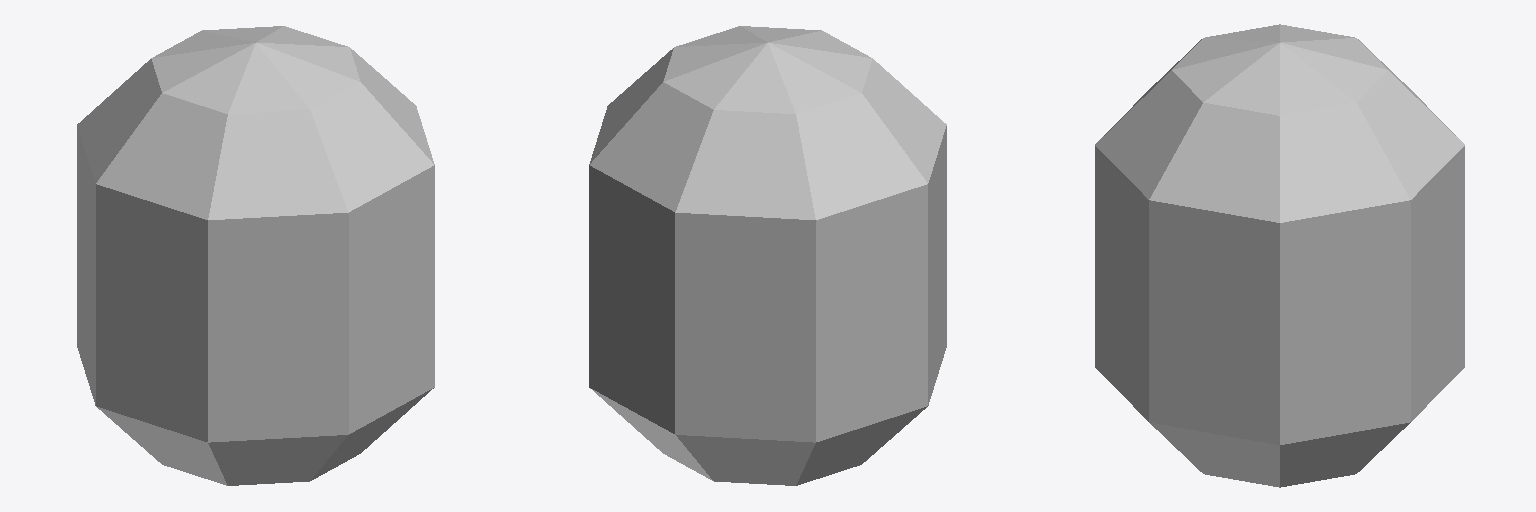
The model's file is convex_mesh.obj.
3 renders of one model, left to right at view 1: azimuth 30°, elevation 25°; view 2: azimuth 150°, elevation 25°; view 3: azimuth 270°, elevation 25°, orthographic.
Parts seen in each view (by area): view 1: Convex; view 2: Convex; view 3: Convex.
Part boxes in pixels (bbox=[...]): Convex: bbox=[77, 26, 434, 485]; Convex: bbox=[589, 26, 946, 485]; Convex: bbox=[1095, 24, 1464, 487].
Bounding box in the file's own units: 29.05 × 36.96 × 29.05.